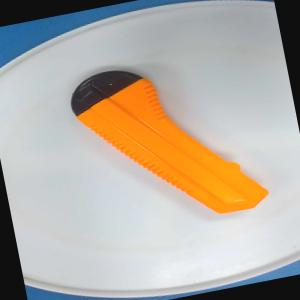estilete: (63, 44, 270, 239)
